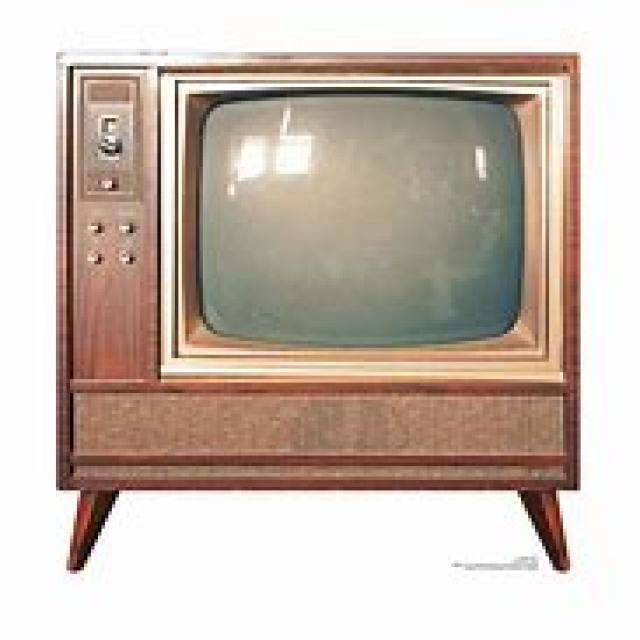tv: (52, 46, 580, 570)
